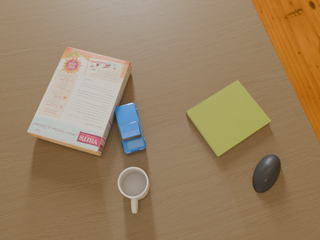book: (186, 80, 271, 157)
box: (28, 47, 131, 156)
cup: (118, 167, 149, 213)
mouse: (253, 155, 281, 193)
toy_car: (114, 103, 146, 153)
